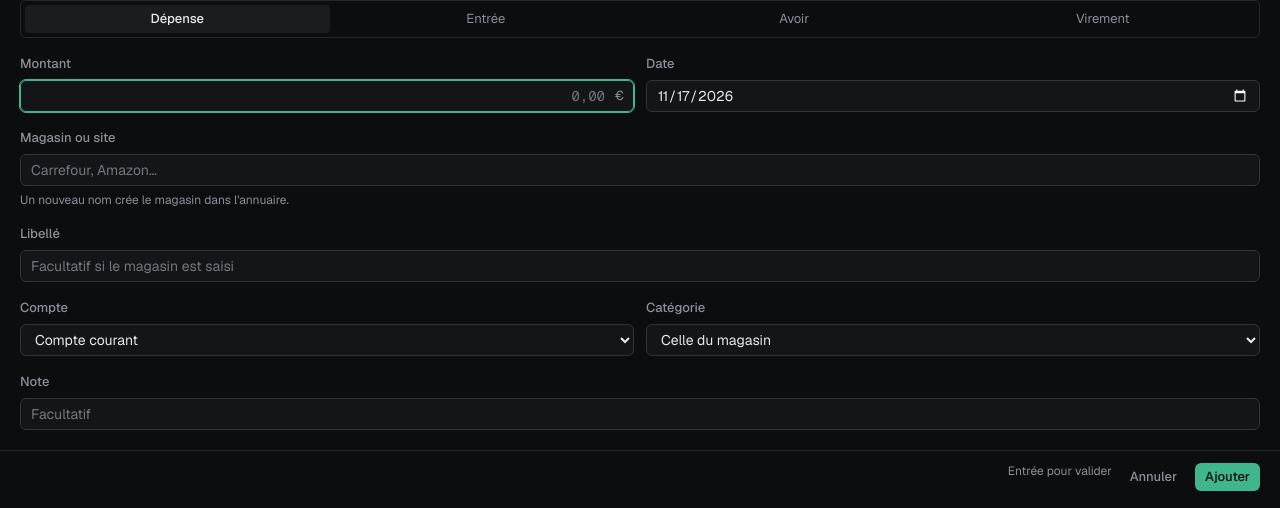
Test case: TransactionForm › filters categories by kind and asks for the credited account on a transfer
The width and height of the screenshot is (1280, 508).
Click the radio button labelled "Entrée": [486, 19] box [334,5,638,33]
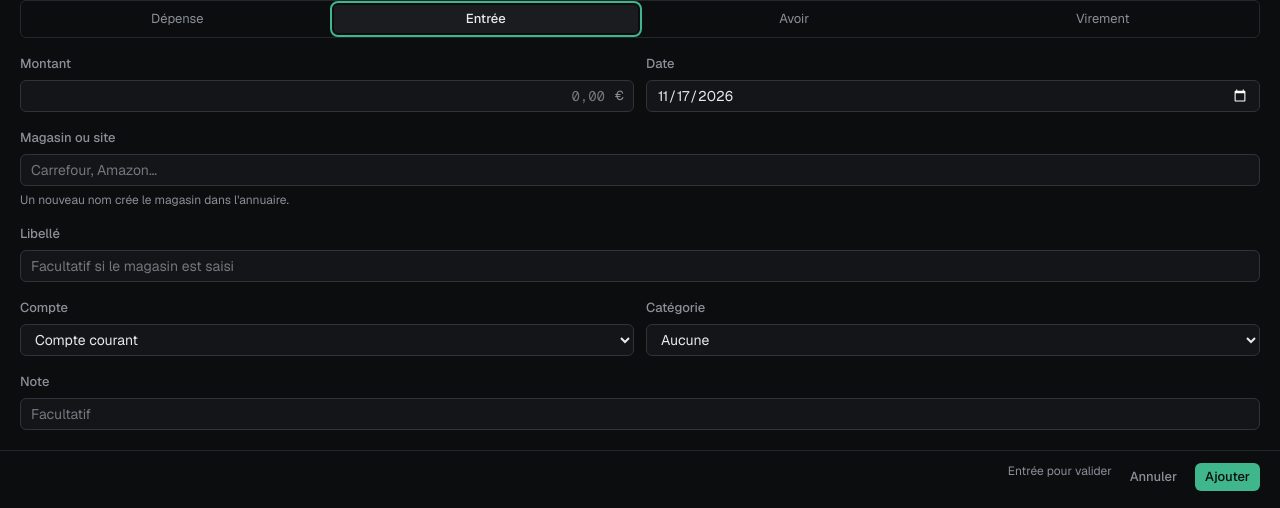
Click the radio button labelled "Virement": [1103, 19] box [950,5,1255,33]
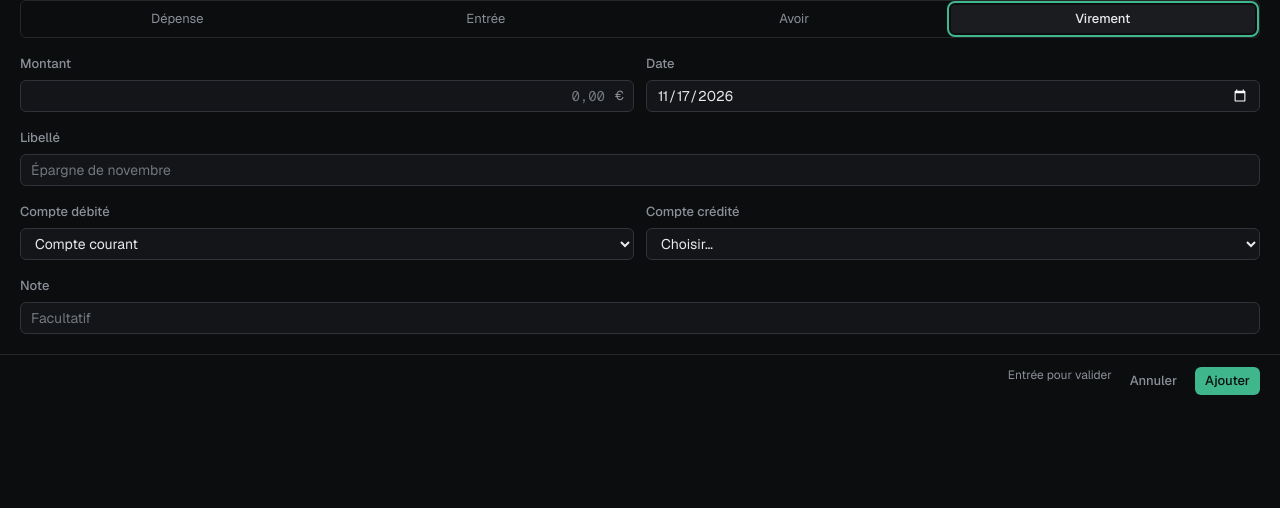
Expected: the dropdown labelled "Compte crédité" is shown, [646,228,1260,260]
Now the label labelled "Magasin ou site" is gone
